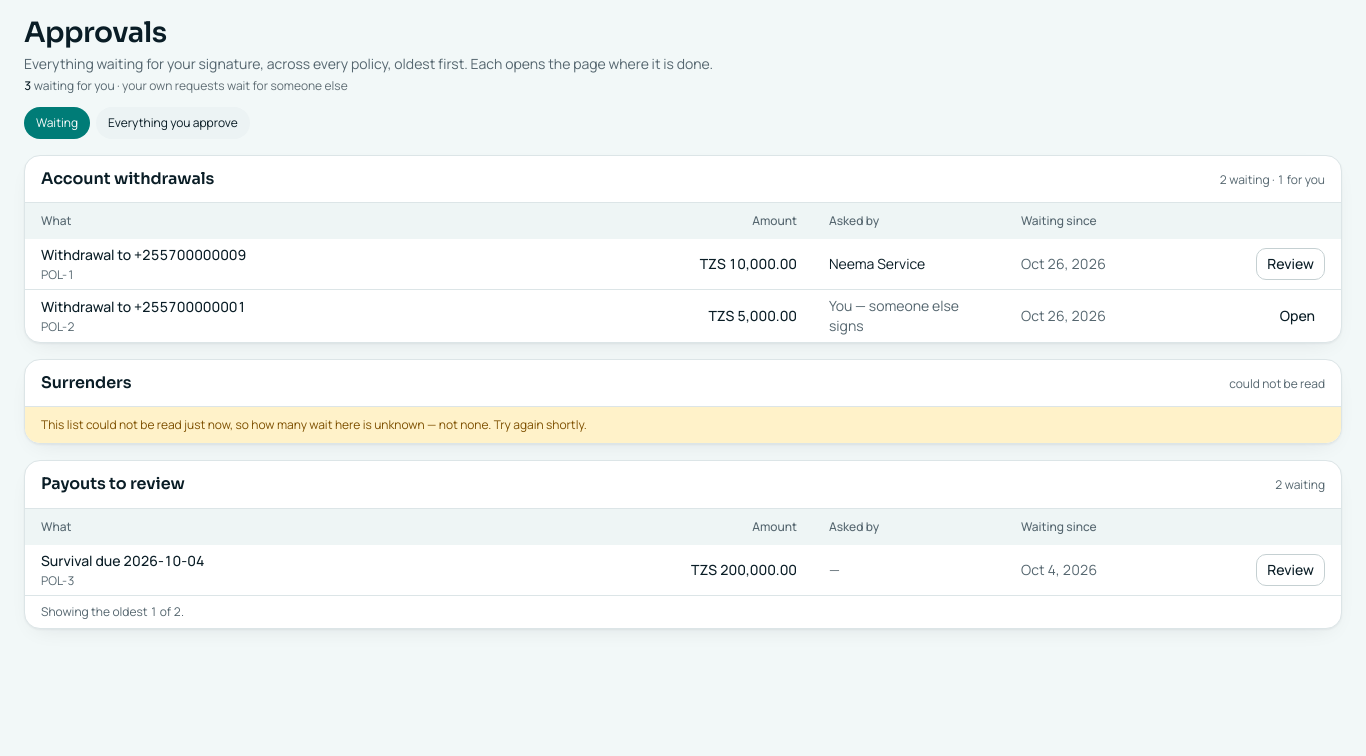
Scenario: ApprovalsPage › reviews an account withdrawal in place, with the policy’s facts and its Approve
The width and height of the screenshot is (1366, 756).
Click the button "Review" at (1291, 264), box top-left (1256, 248), bottom-right (1325, 280)
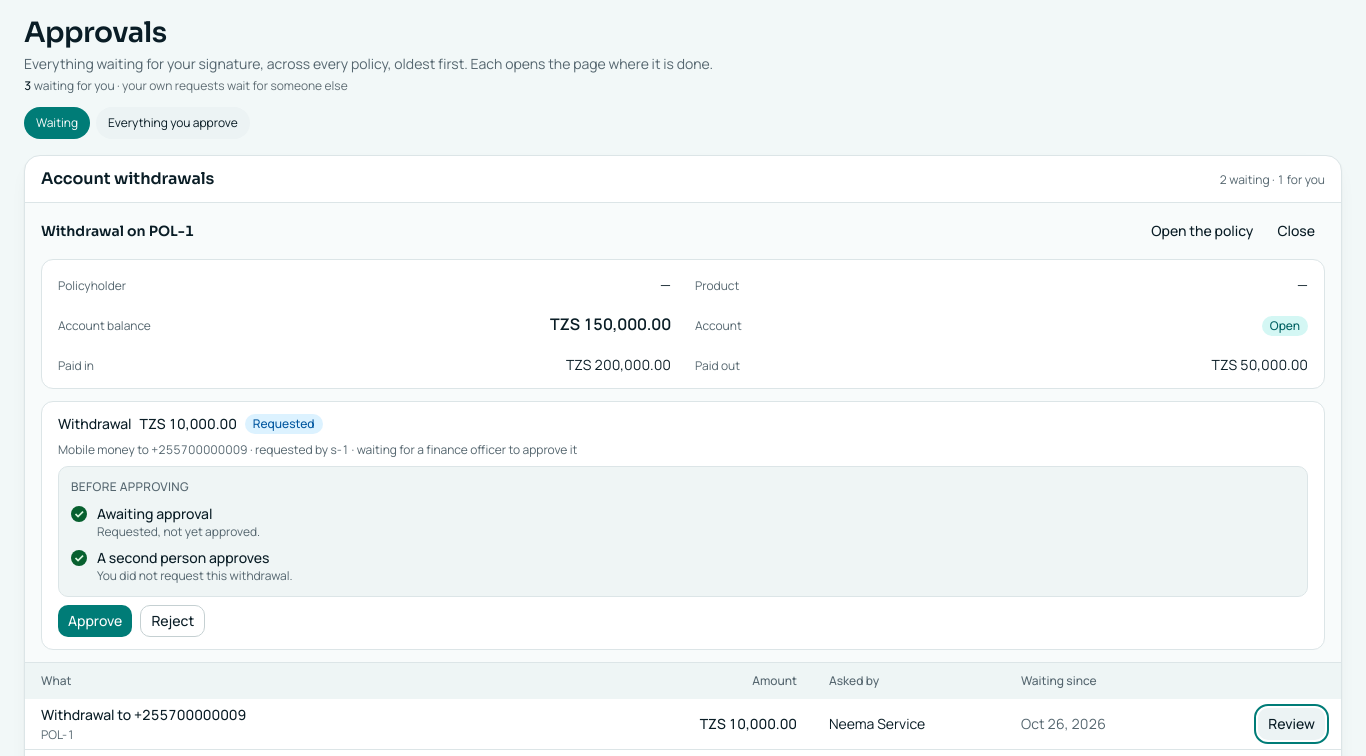
Result: the text "TZS 150,000.00" is shown at top-left (550, 313), bottom-right (671, 335)
Result: the button "Approve" is shown at top-left (58, 605), bottom-right (132, 637)
